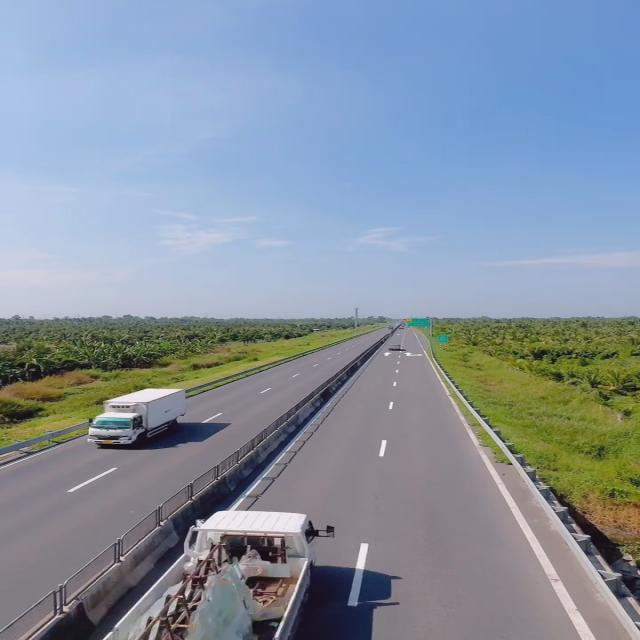truck: (94, 509, 327, 640), (89, 385, 187, 453)
